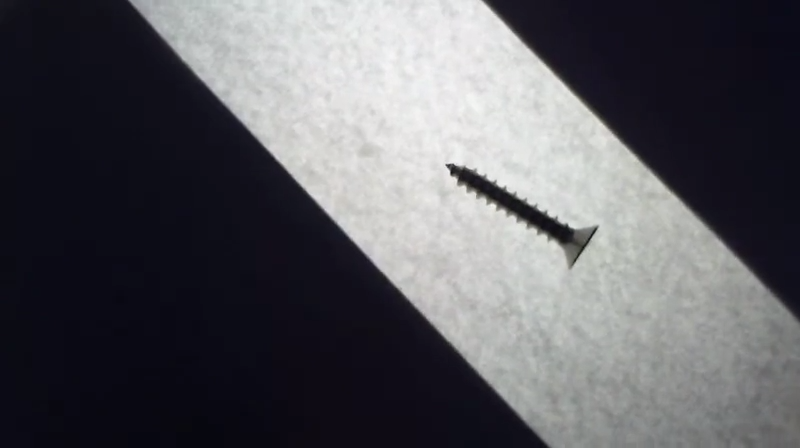S001: (441, 159, 604, 272)
